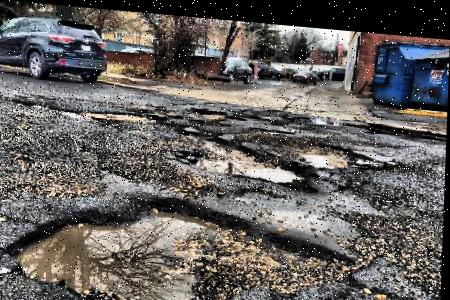pothole: (3, 180, 364, 300), (172, 127, 317, 189), (293, 133, 374, 166), (74, 104, 146, 119), (198, 104, 229, 117)
